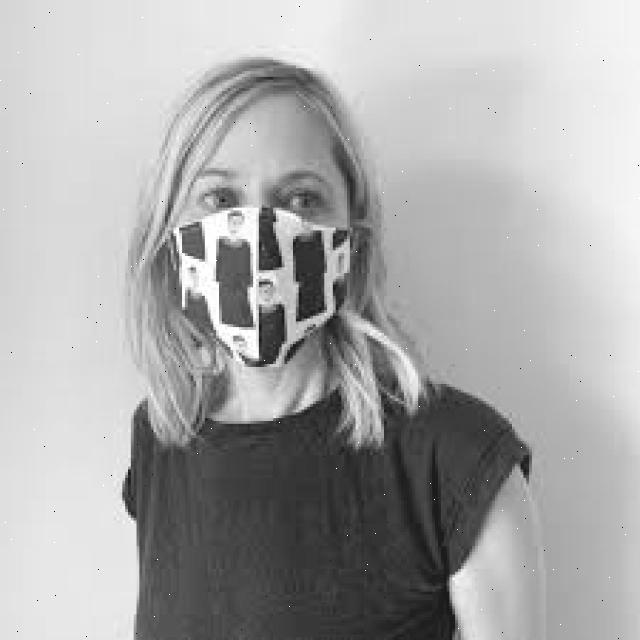fake: (168, 201, 355, 373)
real: (176, 95, 355, 378)
